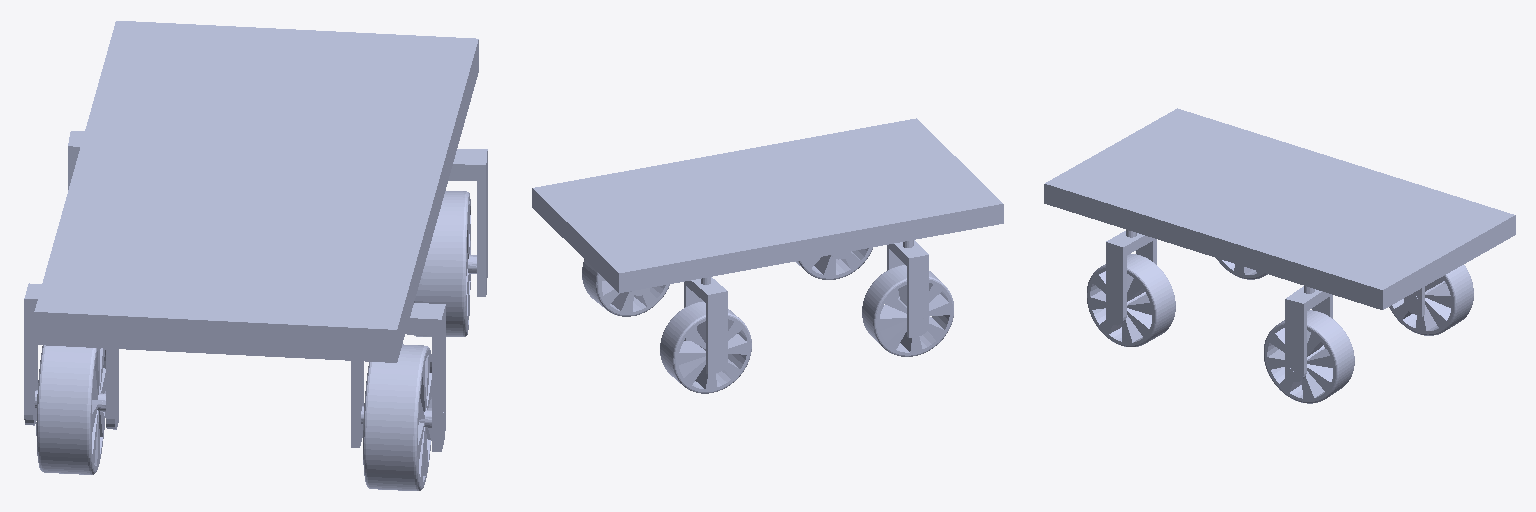
URDF robot description (robot):
<?xml version="1.0" ?>
<!-- =================================================================================== -->
<!-- |    This document was autogenerated by xacro from my_robot_integration.urdf.xacro | -->
<!-- |    EDITING THIS FILE BY HAND IS NOT RECOMMENDED                                 | -->
<!-- =================================================================================== -->
<!-- Name your robot here -->
<robot name="">
  <link name="dummy_link"/>
  <joint name="dummy_joint" type="fixed">
    <parent link="dummy_link"/>
    <child link="base_link"/>
    <origin rpy="0 0 0" xyz="0 0 0"/>
    <axis xyz="0 0 0"/>
  </joint>
  <link name="base_link">
    <inertial>
      <origin rpy="0 0 0" xyz="6.13449739986282E-17 -2.84287583232313E-16 0.317524646486478"/>
      <mass value="24.8697261700928"/>
      <inertia ixx="1.43603324810509" ixy="-0.670093087439571" ixz="8.54885606254234E-18" iyy="1.03954854354602" iyz="1.5135190998267E-17" izz="2.4648903764963"/>
    </inertial>
    <visual>
      <origin rpy="0 0 0" xyz="0 0 0"/>
      <geometry>
        <mesh filename="package://Assem3_6/meshes/base_link.STL"/>
      </geometry>
      <material name="">
        <color rgba="0.792156862745098 0.819607843137255 0.933333333333333 1"/>
      </material>
    </visual>
    <collision>
      <origin rpy="0 0 0" xyz="0 0 0"/>
      <geometry>
        <mesh filename="package://Assem3_6/meshes/base_link.STL"/>
      </geometry>
    </collision>
  </link>
  <link name="sup1">
    <inertial>
      <origin rpy="0 0 0" xyz="-5.55111512312578E-17 -0.000177980343412987 -0.138237174654302"/>
      <mass value="0.389772841969077"/>
      <inertia ixx="0.00158921282512124" ixy="1.0842021724855E-19" ixz="8.33480420098232E-19" iyy="0.00242552132363887" iyz="9.14926445411939E-06" izz="0.00100254379468191"/>
    </inertial>
    <visual>
      <origin rpy="0 0 0" xyz="0 0 0"/>
      <geometry>
        <mesh filename="package://Assem3_6/meshes/sup1.STL"/>
      </geometry>
      <material name="">
        <color rgba="0.792156862745098 0.819607843137255 0.933333333333333 1"/>
      </material>
    </visual>
    <collision>
      <origin rpy="0 0 0" xyz="0 0 0"/>
      <geometry>
        <mesh filename="package://Assem3_6/meshes/sup1.STL"/>
      </geometry>
    </collision>
  </link>
  <joint name="sup1j" type="revolute">
    <origin rpy="-3.1416 0 -0.59688" xyz="-0.031134 0.3403 0.0635"/>
    <parent link="base_link"/>
    <child link="sup1"/>
    <axis xyz="0 0 1"/>
    <limit effort="1000" lower="-0.2" upper="0.2" velocity="0.1"/>
  </joint>
  <link name="wheel_fl">
    <inertial>
      <origin rpy="0 0 0" xyz="0.00233486260762672 2.77555756156289E-17 -0.0634570596277791"/>
      <mass value="1.46839033896977"/>
      <inertia ixx="0.00504783706093038" ixy="-9.77591214033663E-18" ixz="-0.000129476629479786" iyy="0.00504307304976272" iyz="-2.14566791214805E-18" izz="0.00856199796228847"/>
    </inertial>
    <visual>
      <origin rpy="0 0 0" xyz="0 0 0"/>
      <geometry>
        <mesh filename="package://Assem3_6/meshes/wheel_fl.STL"/>
      </geometry>
      <material name="">
        <color rgba="0.792156862745098 0.819607843137255 0.933333333333333 1"/>
      </material>
    </visual>
    <collision>
      <origin rpy="0 0 0" xyz="0 0 0"/>
      <geometry>
        <mesh filename="package://Assem3_6/meshes/wheel_fl.STL"/>
      </geometry>
    </collision>
  </link>
  <joint name="wheel_flj" type="continuous">
    <origin rpy="-1.5708 0 -1.6076" xyz="0.0635 0 -0.0381"/>
    <parent link="sup1"/>
    <child link="wheel_fl"/>
    <axis xyz="-0.076302 0 0.99708"/>
  </joint>
  <link name="sup2">
    <inertial>
      <origin rpy="0 0 0" xyz="2.77555756156289E-17 -0.000177980343413098 -0.138237174654302"/>
      <mass value="0.389772841969076"/>
      <inertia ixx="0.00158921282512124" ixy="5.42101086242752E-20" ixz="-2.96461531539005E-20" iyy="0.00242552132363886" iyz="9.14926445411846E-06" izz="0.00100254379468192"/>
    </inertial>
    <visual>
      <origin rpy="0 0 0" xyz="0 0 0"/>
      <geometry>
        <mesh filename="package://Assem3_6/meshes/sup2.STL"/>
      </geometry>
      <material name="">
        <color rgba="0.792156862745098 0.819607843137255 0.933333333333333 1"/>
      </material>
    </visual>
    <collision>
      <origin rpy="0 0 0" xyz="0 0 0"/>
      <geometry>
        <mesh filename="package://Assem3_6/meshes/sup2.STL"/>
      </geometry>
    </collision>
  </link>
  <joint name="sup2j" type="revolute">
    <origin rpy="3.1416 0 2.5815" xyz="0.33515 0.066684 0.0635"/>
    <parent link="base_link"/>
    <child link="sup2"/>
    <axis xyz="0 0 1"/>
    <limit effort="1000" lower="-0.2" upper="0.2" velocity="0.1"/>
  </joint>
  <link name="wheel_fr">
    <inertial>
      <origin rpy="0 0 0" xyz="0.00233486260762675 -2.77555756156289E-17 0.063457059627779"/>
      <mass value="1.46839033896977"/>
      <inertia ixx="0.00504783706093039" ixy="-6.03691754274001E-18" ixz="0.000129476629479785" iyy="0.00504307304976271" iyz="-1.09334056044605E-18" izz="0.00856199796228847"/>
    </inertial>
    <visual>
      <origin rpy="0 0 0" xyz="0 0 0"/>
      <geometry>
        <mesh filename="package://Assem3_6/meshes/wheel_fr.STL"/>
      </geometry>
      <material name="">
        <color rgba="0.792156862745098 0.819607843137255 0.933333333333333 1"/>
      </material>
    </visual>
    <collision>
      <origin rpy="0 0 0" xyz="0 0 0"/>
      <geometry>
        <mesh filename="package://Assem3_6/meshes/wheel_fr.STL"/>
      </geometry>
    </collision>
  </link>
  <joint name="wheel_frj" type="continuous">
    <origin rpy="-1.5708 0 -1.534" xyz="-0.0635 0 -0.0381"/>
    <parent link="sup2"/>
    <child link="wheel_fr"/>
    <axis xyz="0.039588 0 -0.99922"/>
  </joint>
  <link name="sup3">
    <inertial>
      <origin rpy="0 0 0" xyz="-0.0635000000000001 0.0252220196565872 0.0649628253456976"/>
      <mass value="0.389772841969077"/>
      <inertia ixx="0.00158921282512123" ixy="1.62630325872826E-19" ixz="-3.71847463844638E-19" iyy="0.00242552132363887" iyz="9.14926445411925E-06" izz="0.00100254379468191"/>
    </inertial>
    <visual>
      <origin rpy="0 0 0" xyz="0 0 0"/>
      <geometry>
        <mesh filename="package://Assem3_6/meshes/sup3.STL"/>
      </geometry>
      <material name="">
        <color rgba="0.792156862745098 0.819607843137255 0.933333333333333 1"/>
      </material>
    </visual>
    <collision>
      <origin rpy="0 0 0" xyz="0 0 0"/>
      <geometry>
        <mesh filename="package://Assem3_6/meshes/sup3.STL"/>
      </geometry>
    </collision>
  </link>
  <joint name="sup3j" type="fixed">
    <origin rpy="-3.1416 0 -0.64158" xyz="-0.26908 -0.084337 0.2667"/>
    <parent link="base_link"/>
    <child link="sup3"/>
    <axis xyz="0 0 0"/>
  </joint>
  <link name="wheel_bl">
    <inertial>
      <origin rpy="0 0 0" xyz="-5.55111512312578E-17 5.55111512312578E-17 0.0635"/>
      <mass value="1.46839033896977"/>
      <inertia ixx="0.00504307304976271" ixy="-9.70245380481909E-18" ixz="-2.16840434497101E-19" iyy="0.00504307304976271" iyz="-1.19925513509158E-19" izz="0.00856676197345612"/>
    </inertial>
    <visual>
      <origin rpy="0 0 0" xyz="0 0 0"/>
      <geometry>
        <mesh filename="package://Assem3_6/meshes/wheel_bl.STL"/>
      </geometry>
      <material name="">
        <color rgba="0.792156862745098 0.819607843137255 0.933333333333333 1"/>
      </material>
    </visual>
    <collision>
      <origin rpy="0 0 0" xyz="0 0 0"/>
      <geometry>
        <mesh filename="package://Assem3_6/meshes/wheel_bl.STL"/>
      </geometry>
    </collision>
  </link>
  <joint name="wheel_blj" type="continuous">
    <origin rpy="-1.5708 0 -1.5708" xyz="-0.127 0.0254 0.1651"/>
    <parent link="sup3"/>
    <child link="wheel_bl"/>
    <axis xyz="0 0 -1"/>
  </joint>
  <link name="sup4">
    <inertial>
      <origin rpy="0 0 0" xyz="-0.0635 0.0252220196565871 0.0649628253456977"/>
      <mass value="0.389772841969076"/>
      <inertia ixx="0.00158921282512123" ixy="2.16840434497101E-19" ixz="-2.43945488809238E-19" iyy="0.00242552132363886" iyz="9.14926445411836E-06" izz="0.00100254379468191"/>
    </inertial>
    <visual>
      <origin rpy="0 0 0" xyz="0 0 0"/>
      <geometry>
        <mesh filename="package://Assem3_6/meshes/sup4.STL"/>
      </geometry>
      <material name="">
        <color rgba="0.792156862745098 0.819607843137255 0.933333333333333 1"/>
      </material>
    </visual>
    <collision>
      <origin rpy="0 0 0" xyz="0 0 0"/>
      <geometry>
        <mesh filename="package://Assem3_6/meshes/sup4.STL"/>
      </geometry>
    </collision>
  </link>
  <joint name="sup4j" type="fixed">
    <origin rpy="3.1416 0 2.5" xyz="-0.03494 -0.32265 0.2667"/>
    <parent link="base_link"/>
    <child link="sup4"/>
    <axis xyz="0 0 0"/>
  </joint>
  <link name="wheel_br">
    <inertial>
      <origin rpy="0 0 0" xyz="5.55111512312578E-17 0 0.0635"/>
      <mass value="1.46839033896977"/>
      <inertia ixx="0.00504307304976272" ixy="-4.48171774300226E-18" ixz="2.60208521396521E-18" iyy="0.00504307304976271" iyz="-7.41249960609166E-19" izz="0.00856676197345613"/>
    </inertial>
    <visual>
      <origin rpy="0 0 0" xyz="0 0 0"/>
      <geometry>
        <mesh filename="package://Assem3_6/meshes/wheel_br.STL"/>
      </geometry>
      <material name="">
        <color rgba="0.792156862745098 0.819607843137255 0.933333333333333 1"/>
      </material>
    </visual>
    <collision>
      <origin rpy="0 0 0" xyz="0 0 0"/>
      <geometry>
        <mesh filename="package://Assem3_6/meshes/wheel_br.STL"/>
      </geometry>
    </collision>
  </link>
  <joint name="wheel_brj" type="continuous">
    <origin rpy="-1.5708 0 -1.5708" xyz="-0.127 0.0254 0.1651"/>
    <parent link="sup4"/>
    <child link="wheel_br"/>
    <axis xyz="0 0 1"/>
  </joint>
  <transmission name="fl">
    <type>transmission_interface/SimpleTransmission</type>
    <joint name="wheel_flj">
      <hardwareInterface>hardware_interface/EffortJointInterface</hardwareInterface>
    </joint>
    <actuator name="motor_fl">
      <hardwareInterface>hardware_interface/EffortJointInterface</hardwareInterface>
      <mechanicalReduction>1</mechanicalReduction>
    </actuator>
  </transmission>
  <transmission name="fr">
    <type>transmission_interface/SimpleTransmission</type>
    <joint name="wheel_frj">
      <hardwareInterface>hardware_interface/EffortJointInterface</hardwareInterface>
    </joint>
    <actuator name="motor_fr">
      <hardwareInterface>hardware_interface/EffortJointInterface</hardwareInterface>
      <mechanicalReduction>1</mechanicalReduction>
    </actuator>
  </transmission>
  <transmission name="bl">
    <type>transmission_interface/SimpleTransmission</type>
    <joint name="wheel_blj">
      <hardwareInterface>hardware_interface/VelocityJointInterface</hardwareInterface>
    </joint>
    <actuator name="motor_bl">
      <hardwareInterface>hardware_interface/VelocityJointInterface</hardwareInterface>
      <mechanicalReduction>1</mechanicalReduction>
    </actuator>
  </transmission>
  <transmission name="br">
    <type>transmission_interface/SimpleTransmission</type>
    <joint name="wheel_brj">
      <hardwareInterface>hardware_interface/VelocityJointInterface</hardwareInterface>
    </joint>
    <actuator name="motor_br">
      <hardwareInterface>hardware_interface/VelocityJointInterface</hardwareInterface>
      <mechanicalReduction>1</mechanicalReduction>
    </actuator>
  </transmission>
  <link name="base_laser">
    <inertial>
      <origin rpy="0 0 0" xyz="-0.00029774 0.0066667 0.00013047"/>
      <mass value="0.15717"/>
      <inertia ixx="6.7885E-05" ixy="-1.3987E-07" ixz="-8.1554E-07" iyy="0.00013173" iyz="-9.0932E-08" izz="7.1972E-05"/>
    </inertial>
    <visual>
      <origin rpy="0 0 0" xyz="0 0 0"/>
      <geometry>
        <mesh filename="package://Assem3_6/meshes/ydlidar.dae"/>
      </geometry>
      <material name="">
        <color rgba="0.64706 0.61961 0.58824 1"/>
      </material>
    </visual>
    <collision>
      <origin rpy="0 0 0" xyz="0 0 0"/>
      <geometry>
        <mesh filename="package://Assem3_6/meshes/ydlidar.dae"/>
      </geometry>
    </collision>
  </link>
  <link name="laser_frame">
    <inertial>
      <origin rpy="0 0 0" xyz="-0.00036659 0.00064155 -0.00027052"/>
      <mass value="0.25482"/>
      <inertia ixx="8.9194E-05" ixy="1.8116E-07" ixz="3.6435E-08" iyy="0.00018279" iyz="2.423E-07" izz="0.00011103"/>
    </inertial>
    <!--visual>
      <origin
        xyz="0 0 0"
        rpy="0 0 0" />
      <geometry>
        <mesh
          filename="package://Assem3_6/meshes/ydlidar.dae" />
      </geometry>
      <material
        name="">
        <color
          rgba="0.64706 0.61961 0.58824 1" />
      </material>
    </visual-->
    <!--collision>
      <origin
        xyz="0 0 0"
        rpy="0 0 0" />
      <geometry>
        <mesh
          filename="package://Assem3_6/meshes/ydlidar.dae" />
      </geometry>
    </collision-->
  </link>
  <joint name="laser_joint" type="fixed">
    <origin rpy="0 0 0" xyz="0 0 0.03172"/>
    <parent link="base_laser"/>
    <child link="laser_frame"/>
    <axis xyz="0 0 0"/>
  </joint>
  <!-- Add your gazebo sensors here -->
  <gazebo reference="base_laser">
    <!-- <gravity>true</gravity> -->
    <!-- Gazebo has fixed set of Sensors types. Check them out here <> -->
    <sensor name="laser" type="ray">
      <!-- Add in your sensor characteristics -->
      <pose> 0 0 0 0 0 0 </pose>
      <visualise>true</visualise>
      <update_rate>40</update_rate>
      <!-- <always_on>true</always_on> -->
      <ray>
        <scan>
          <horizontal>
            <samples>720</samples>
            <resolution>1</resolution>
            <min_angle>-1.570796</min_angle>
            <max_angle>1.570796</max_angle>
          </horizontal>
        </scan>
        <range>
          <min>0.10</min>
          <max>30.0</max>
          <resolution>0.01</resolution>
        </range>
        <noise>
          <type>gaussian</type>
          <mean>0.0</mean>
          <stddev>0.01</stddev>
        </noise>
      </ray>
      <plugin filename="libgazebo_ros_laser.so" name="gazebo_ros_head_hokuyo_controller">
        <!-- Use topic name as /my_robot/scan -->
        <topicName>/Assem3_6/scan</topicName>
        <frameName>laser_frame</frameName>
      </plugin>
    </sensor>
  </gazebo>
  <!--  Gazebo plugin for control here is already added for you -->
  <gazebo>
    <plugin filename="libgazebo_ros_control.so" name="gazebo_ros_control">
      <robotNamespace>/Assem3_6</robotNamespace>
      <robotSimType>gazebo_ros_control/DefaultRobotHWSim</robotSimType>
      <legacyModeNS>true</legacyModeNS>
    </plugin>
  </gazebo>
  <!-- Create a joint between your robot and sensor -->
  <joint name="lidar_car_joint" type="fixed">
    <axis xyz="0 0 1"/>
    <origin rpy="0 0 0" xyz="0 0 0.545"/>
    <parent link="base_link"/>
    <child link="base_laser"/>
  </joint>
</robot>

--- What the picture shows (computed from the rendered views, not written in the file) ---
Views: 3 orthographic renders of the robot side by side, from view 1: azimuth 30°, elevation 25°; view 2: azimuth 150°, elevation 25°; view 3: azimuth 270°, elevation 25°.
Model robot with 12 links and 11 joints (2 revolute, 4 continuous, 5 fixed), rooted at dummy_link, posed every joint at zero.
Visible links, largest first — view 1: base_link, wheel_br, wheel_bl, wheel_fr, sup4, sup3, sup2; view 2: base_link, wheel_fl, wheel_bl, sup1, sup3, wheel_fr, wheel_br; view 3: base_link, wheel_fr, wheel_br, wheel_fl, sup2, sup4.
Boxes of the visible links, <box> form: base_link: <box>34,21,478,362</box>; wheel_br: <box>361,344,444,490</box>; wheel_bl: <box>34,345,117,474</box>; wheel_fr: <box>414,191,476,336</box>; sup4: <box>351,303,445,451</box>; sup3: <box>24,283,118,429</box>; sup2: <box>448,149,487,296</box>; base_link: <box>532,118,1003,292</box>; wheel_fl: <box>660,301,751,393</box>; wheel_bl: <box>862,265,953,356</box>; sup1: <box>684,277,727,374</box>; sup3: <box>887,240,928,337</box>; wheel_fr: <box>582,259,669,316</box>; wheel_br: <box>795,247,872,279</box>; base_link: <box>1044,108,1515,309</box>; wheel_fr: <box>1264,310,1354,403</box>; wheel_br: <box>1087,254,1175,346</box>; wheel_fl: <box>1389,265,1473,335</box>; sup2: <box>1285,286,1332,381</box>; sup4: <box>1106,230,1156,325</box>.
Bounding box of the posed robot: 0.9846 × 1.08 × 0.3429 m (x, y, z).
Meshes: 10 distinct files referenced, 9 mesh visuals loaded (9 binary STL); not drawn: 1 (reference not matched to a file when rendering).
